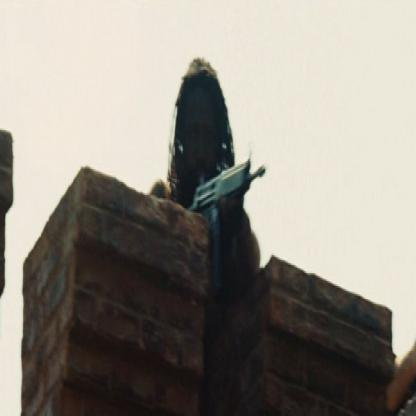Guns: (186, 148, 266, 296)
